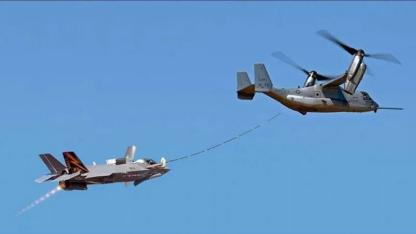F22: (33, 145, 171, 191)
Tornado: (235, 29, 404, 115)
